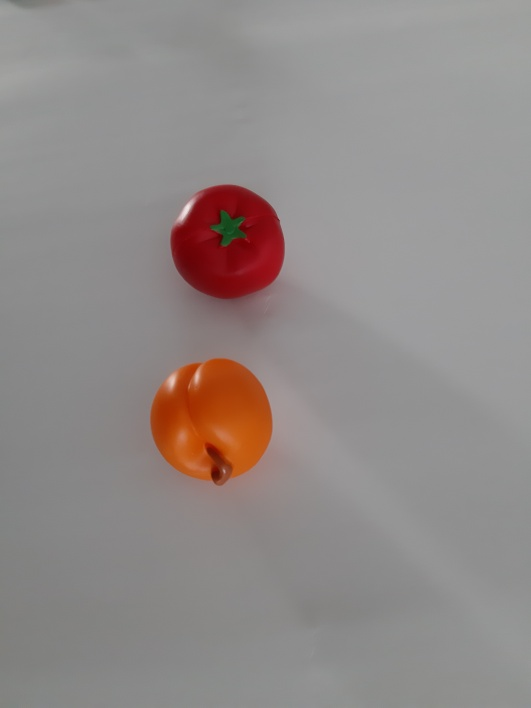apricot: (131, 341, 296, 508)
tomato: (153, 168, 312, 320)
